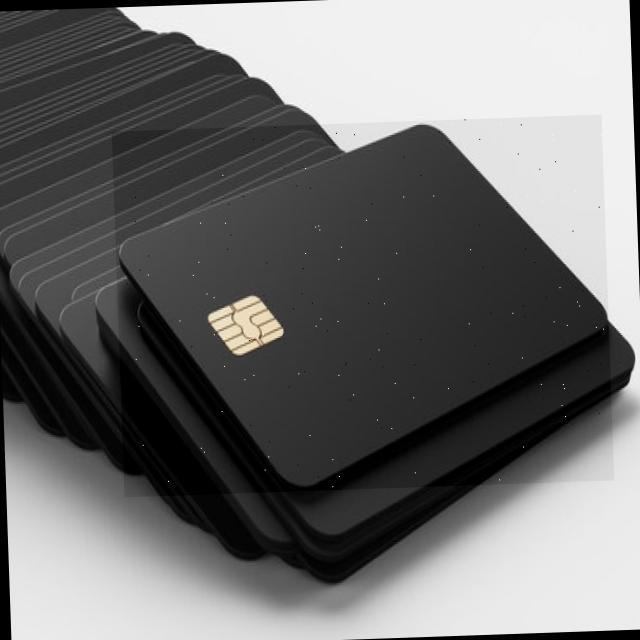payment_card: (119, 122, 606, 482)
